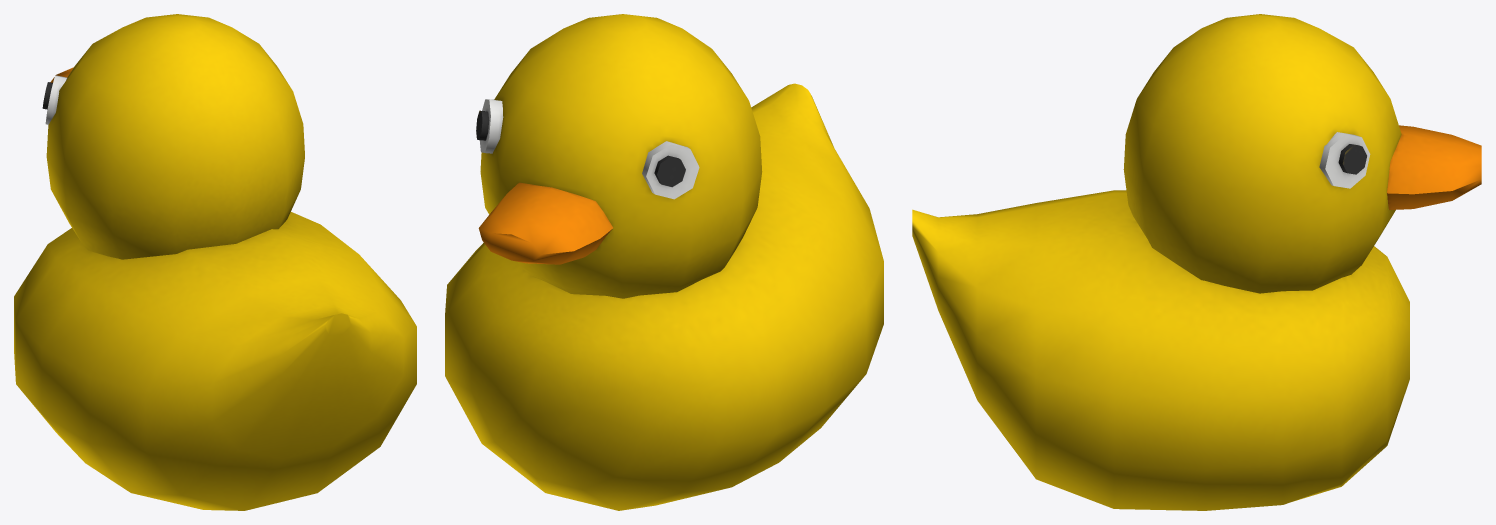
Rendered from rubber_duck.glb.
3 views of the same model, side by side, from view 1: azimuth 30°, elevation 25°; view 2: azimuth 150°, elevation 25°; view 3: azimuth 270°, elevation 25° (orthographic). The views are drawn at different scales.
Parts seen in each view (by area): view 1: x1_rubber_duck; view 2: x1_rubber_duck; view 3: x1_rubber_duck.
Part boxes in pixels (left/top/right/bottom): x1_rubber_duck: left=14, top=14, right=416, bottom=510; x1_rubber_duck: left=445, top=14, right=883, bottom=510; x1_rubber_duck: left=912, top=14, right=1481, bottom=510.
Size of the model in its own units: 0.0402 by 0.0508 by 0.0569.
1 material, 1 textured.
